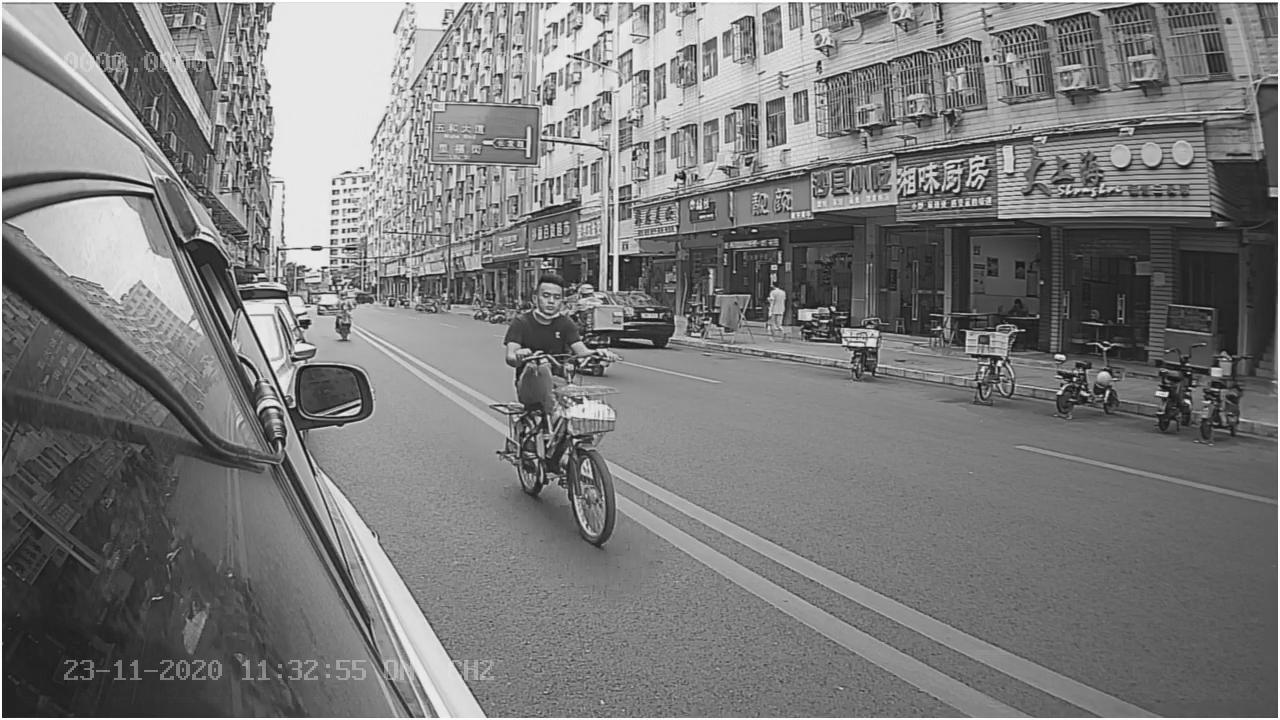person: (504, 268, 599, 360)
